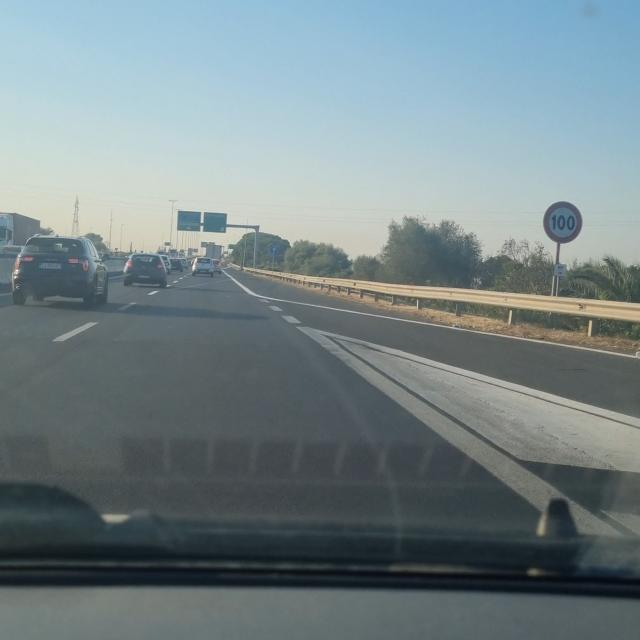forb_speed_over_100: (544, 200, 583, 245)
